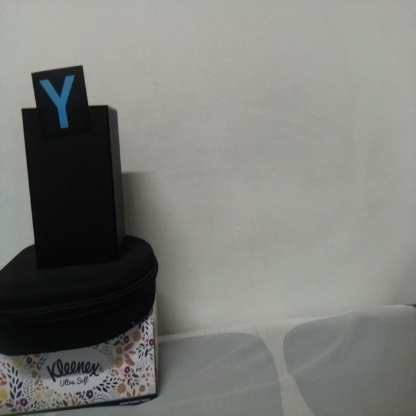id_14: (32, 71, 87, 138)
